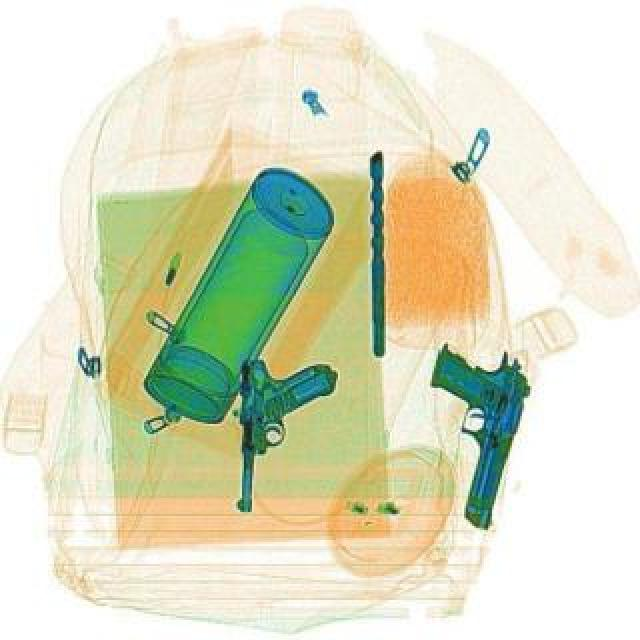gun: (390, 330, 538, 530), (234, 356, 334, 514)
